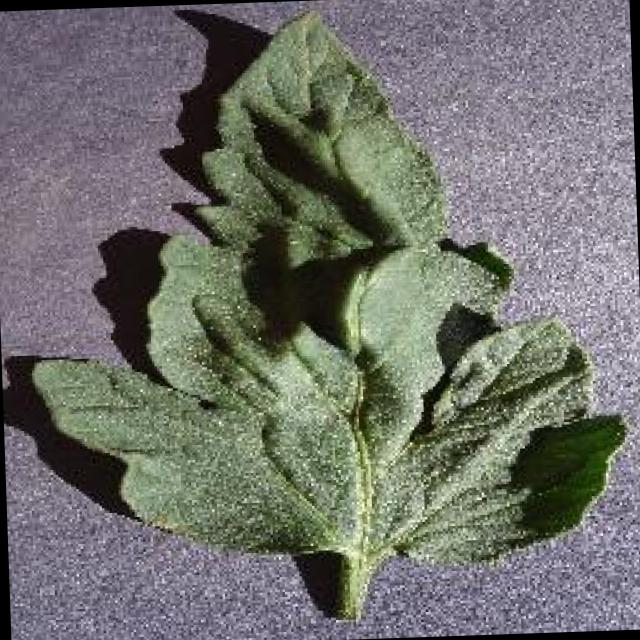Tomato_Healthy: (56, 9, 626, 579)
